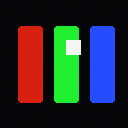1 square: (66, 40, 80, 54)
